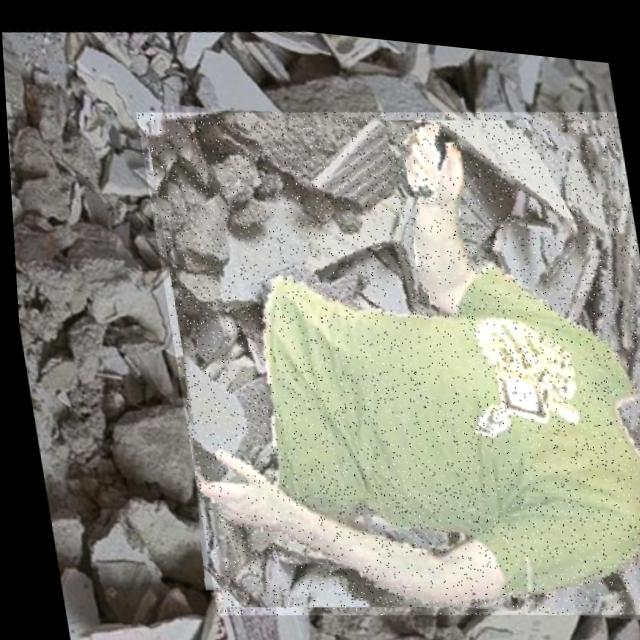Person in Rubble: (130, 58, 640, 640)
